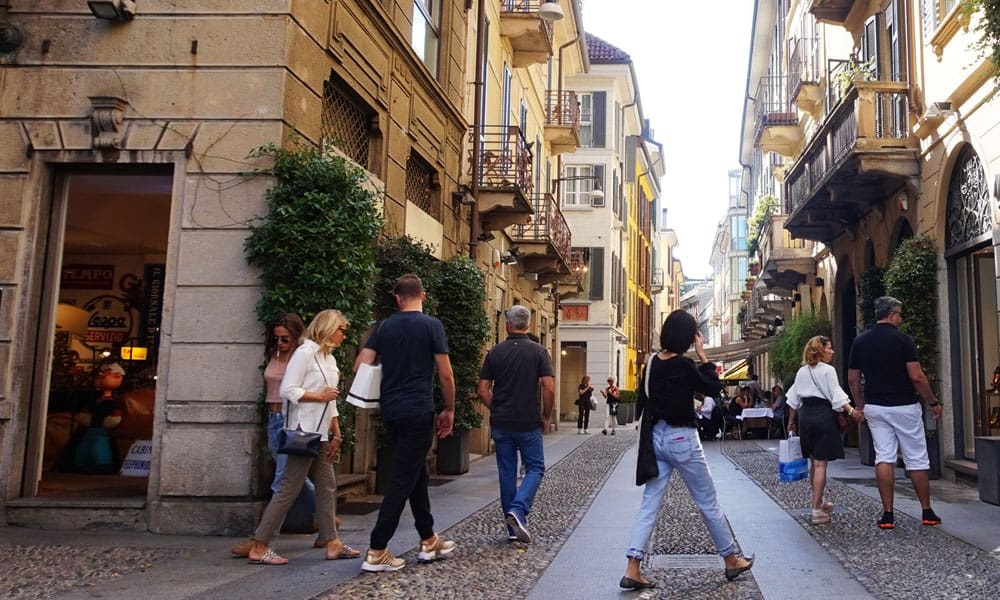person: (611, 304, 767, 594), (349, 269, 471, 581), (845, 289, 967, 544), (264, 303, 364, 571), (466, 297, 567, 552), (775, 326, 869, 533), (257, 314, 308, 447)
